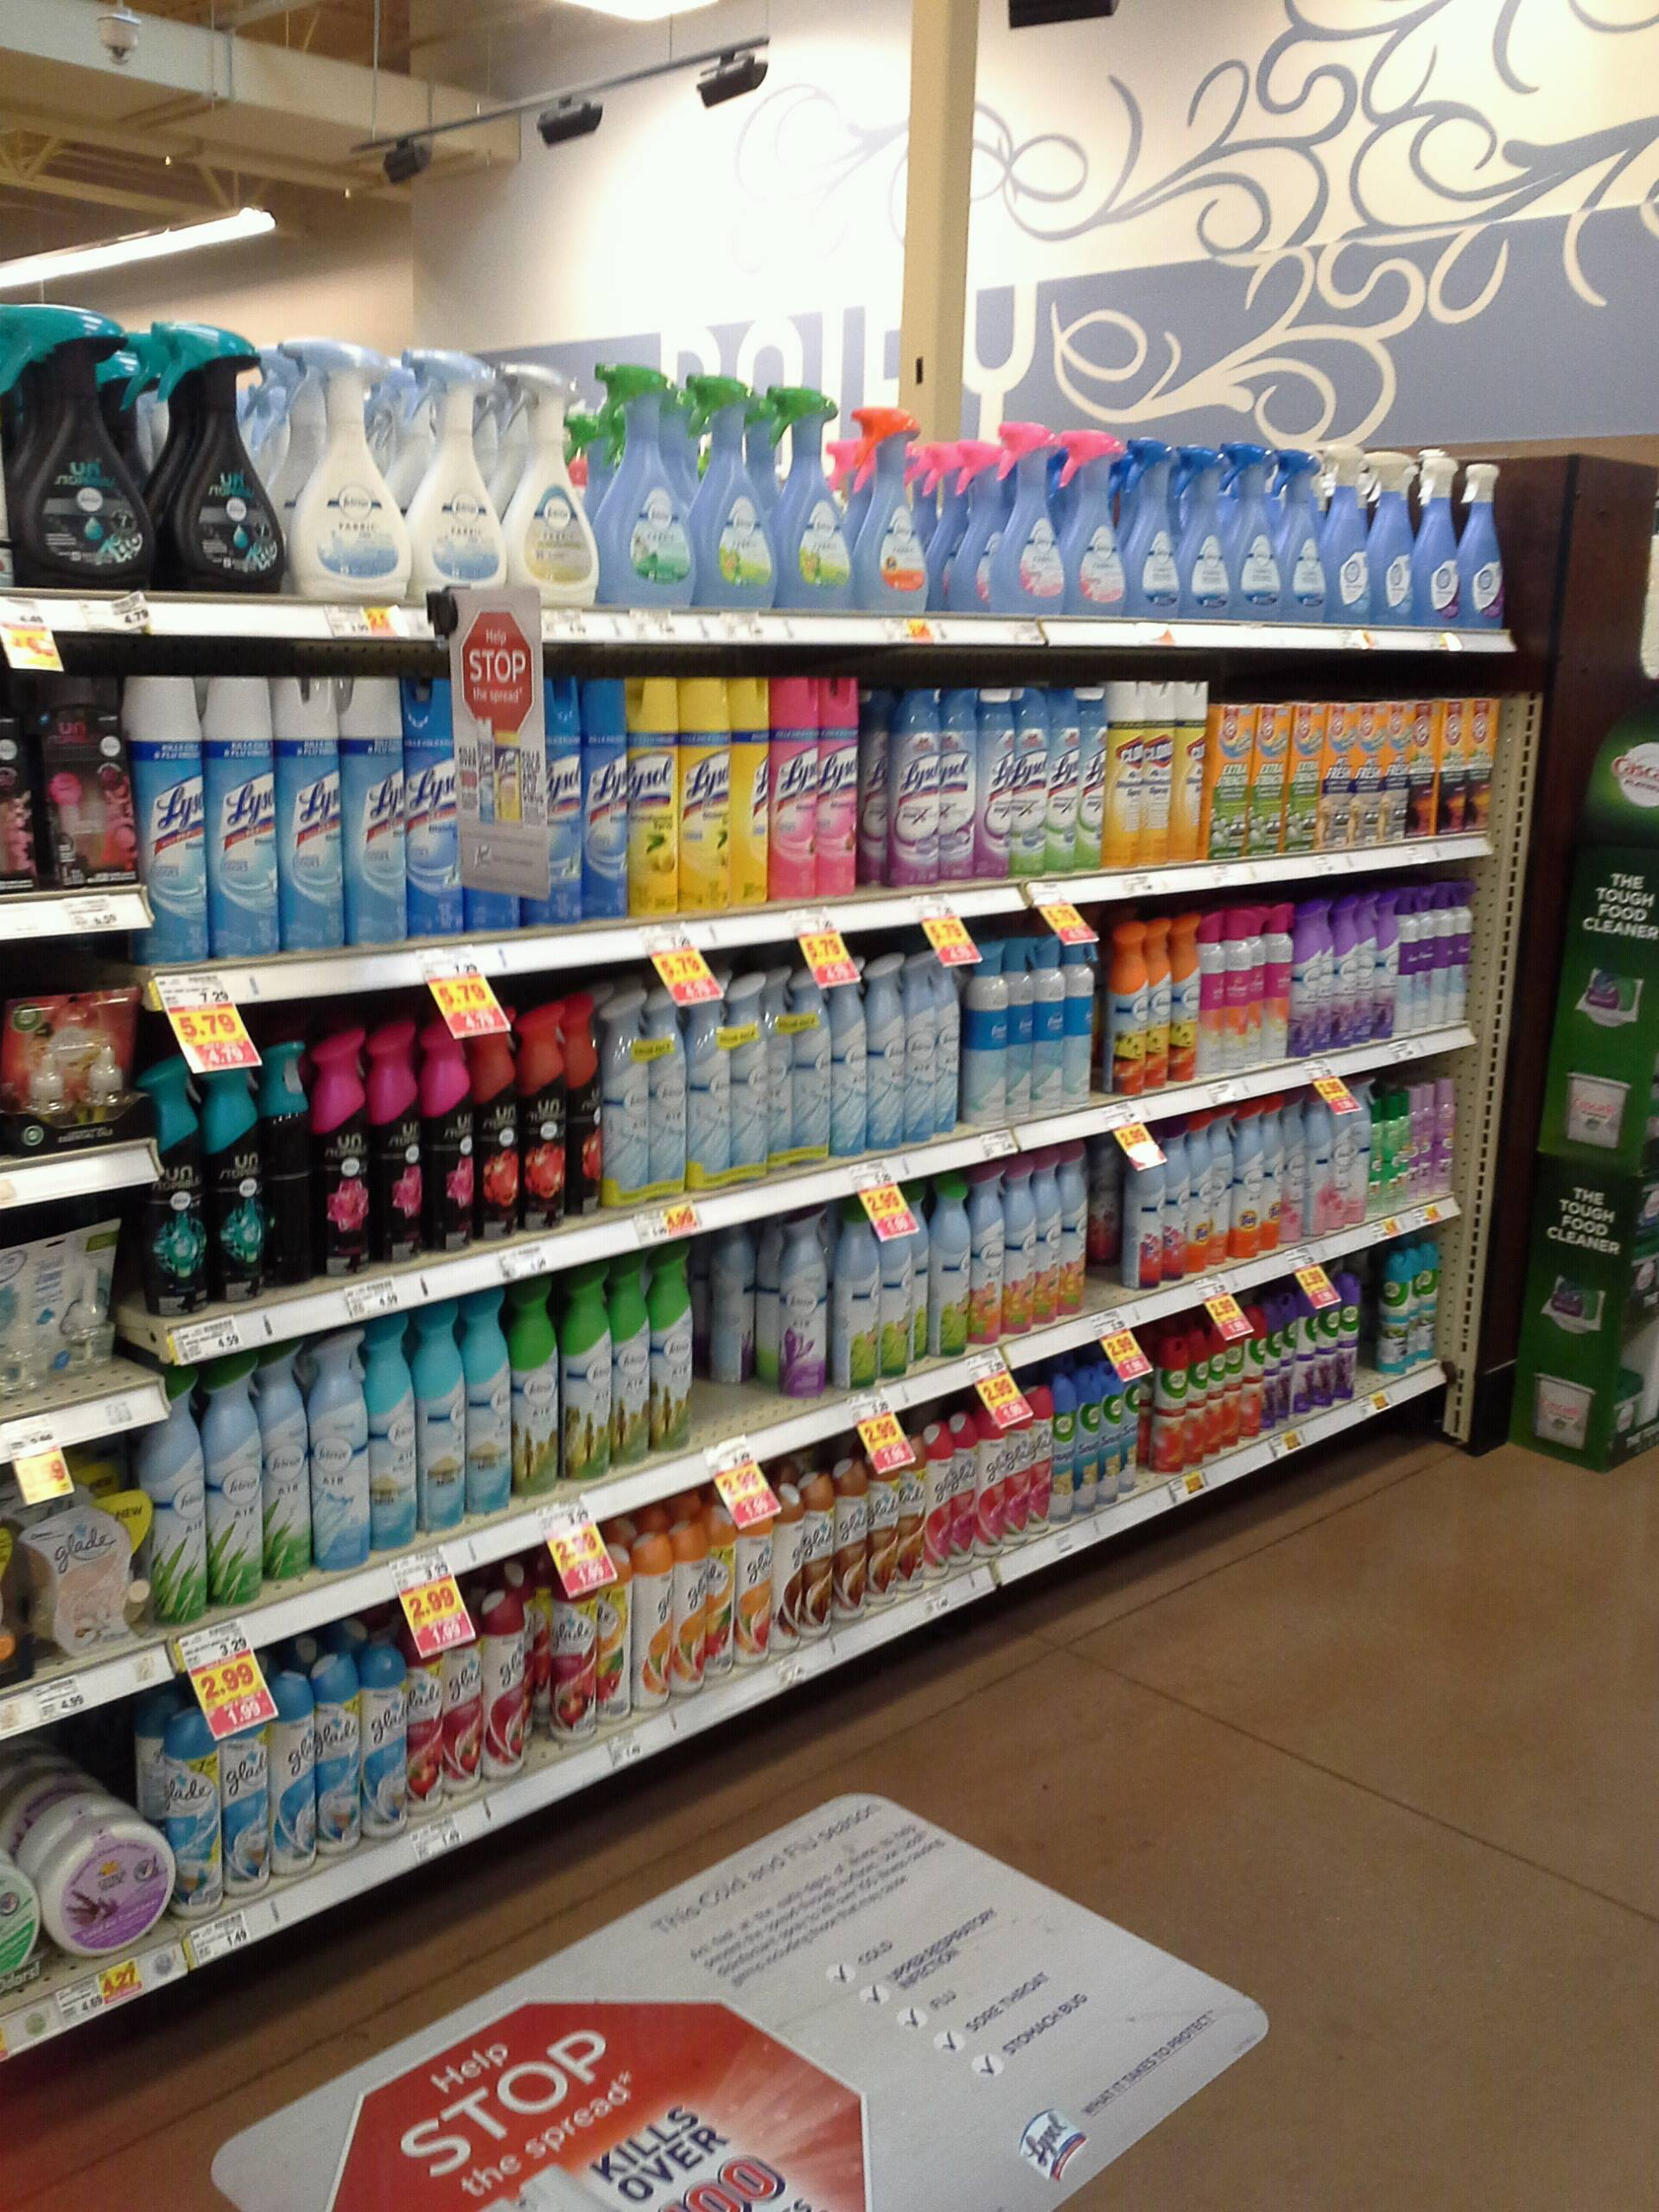Out-of-stock: (694, 1216, 821, 1456), (1087, 1141, 1147, 1310)
